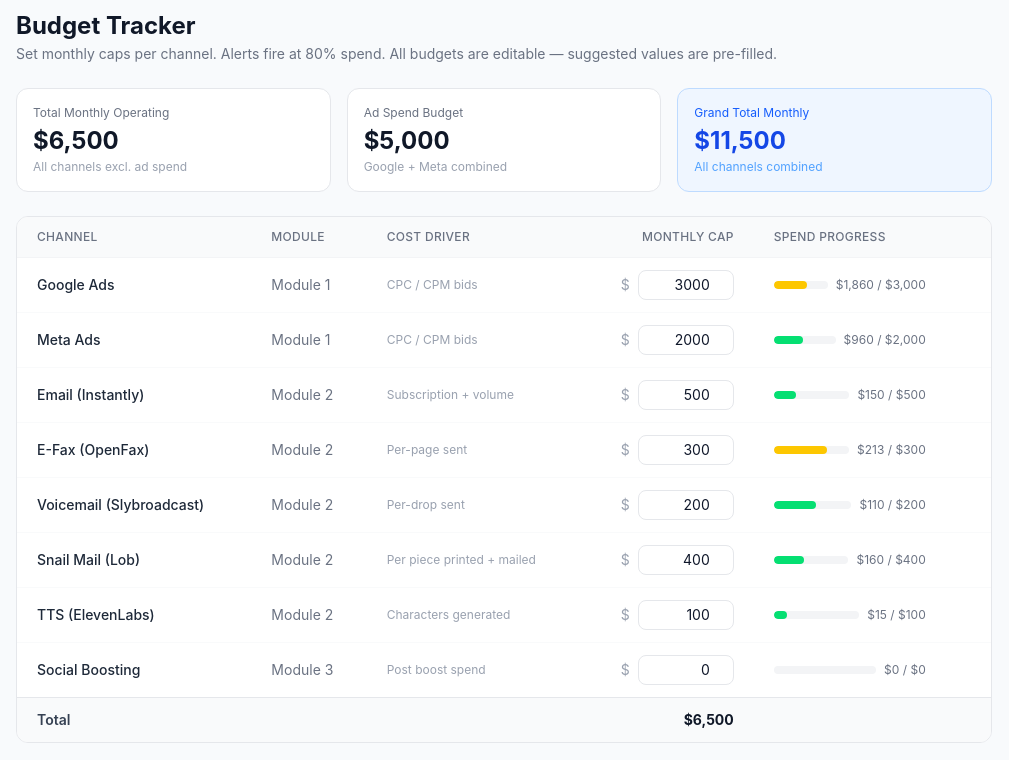
it: Budget Tracker page › shows Save button when a budget input is changed
Check: the text "Google Ads" is shown, box [37,275,114,295]
Replace the text in the number field in the row of "Google Ads" with "4000" at (686, 285), box [638,270,734,300]
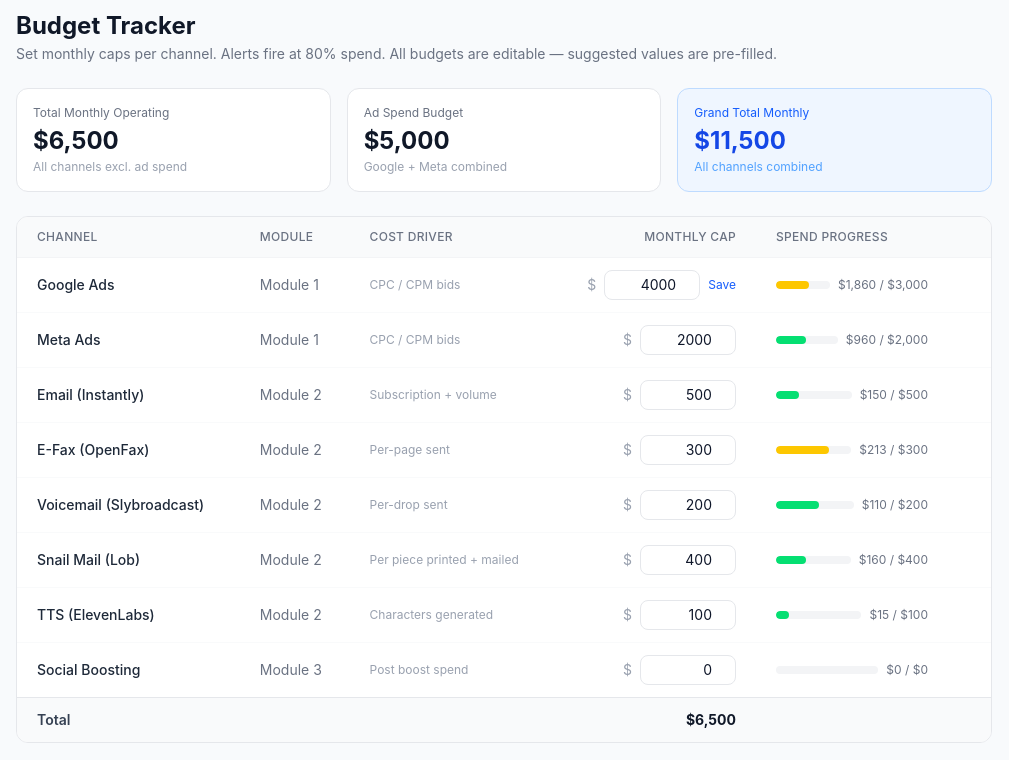
Check: the button "Save" is shown, box [708,277,736,293]
